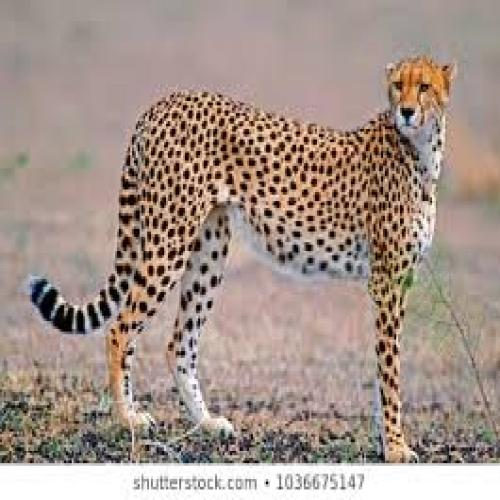cheetah-endangered: (26, 57, 457, 464)
